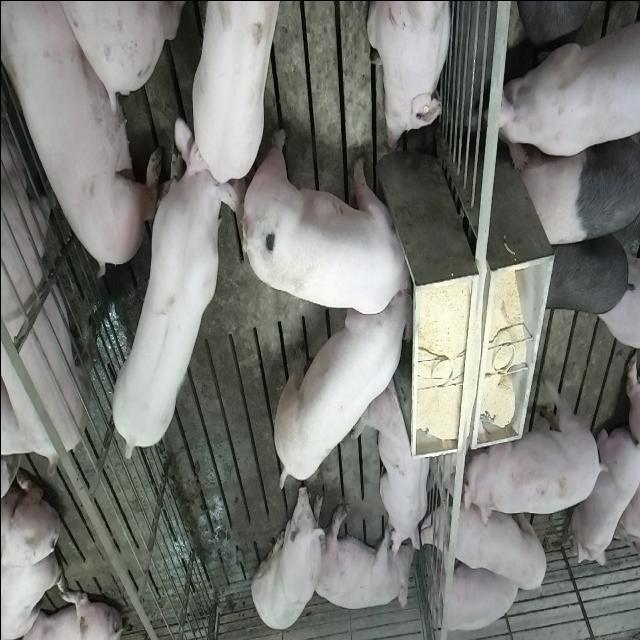Feeding: (244, 126, 420, 314), (268, 284, 410, 496)
Lateral_lying: (311, 501, 415, 611)
Sitting: (251, 482, 327, 632)
Standing: (0, 21, 100, 468), (106, 120, 236, 458), (498, 0, 638, 159), (462, 381, 608, 521), (168, 0, 278, 182), (516, 126, 638, 249), (530, 226, 634, 316)
Sternal_lying: (357, 374, 432, 556), (366, 0, 454, 150), (572, 420, 638, 568), (428, 548, 522, 634)
